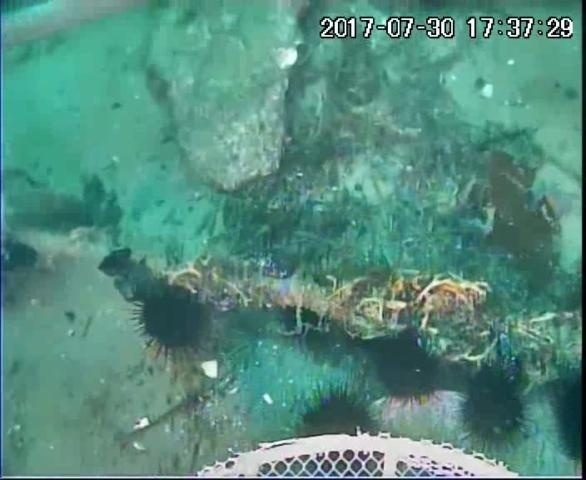echinus: (454, 361, 533, 453), (129, 283, 214, 362), (368, 330, 447, 407), (292, 383, 384, 443), (546, 361, 585, 469)
